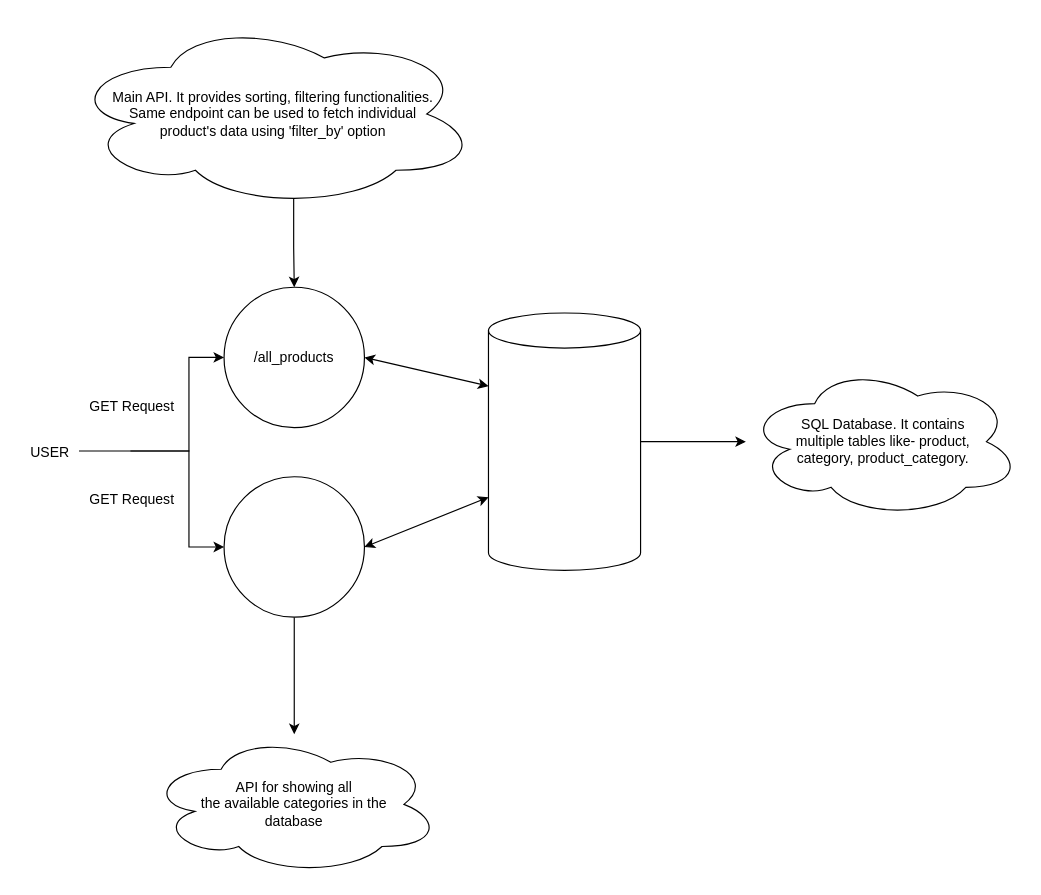
The diagram is 1041 pixels wide and 895 high, and some of its shapes have lost their labels. Each missing label, with the box of its shape:
/all_categories: (223, 476, 364, 617)
data.db: (487, 312, 641, 570)
